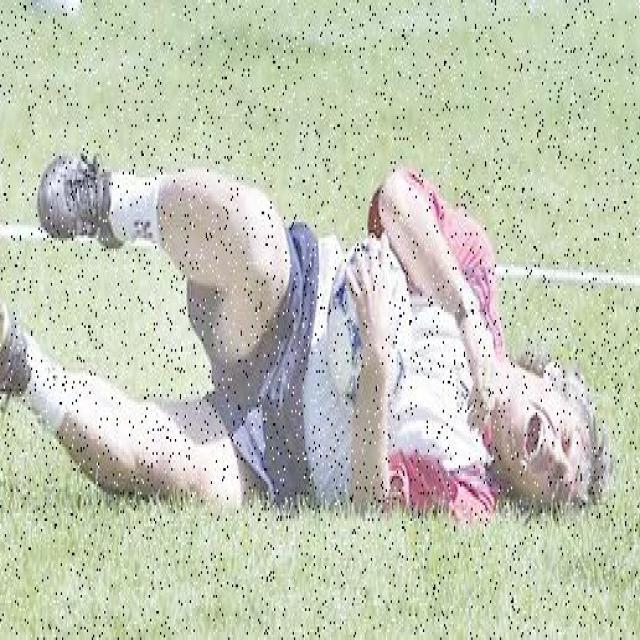fall: (58, 177, 606, 508)
